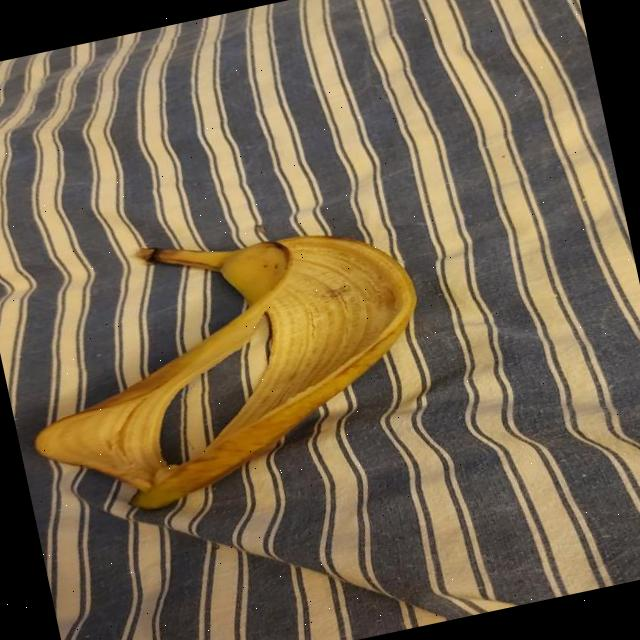banana-peel: (0, 190, 449, 531)
